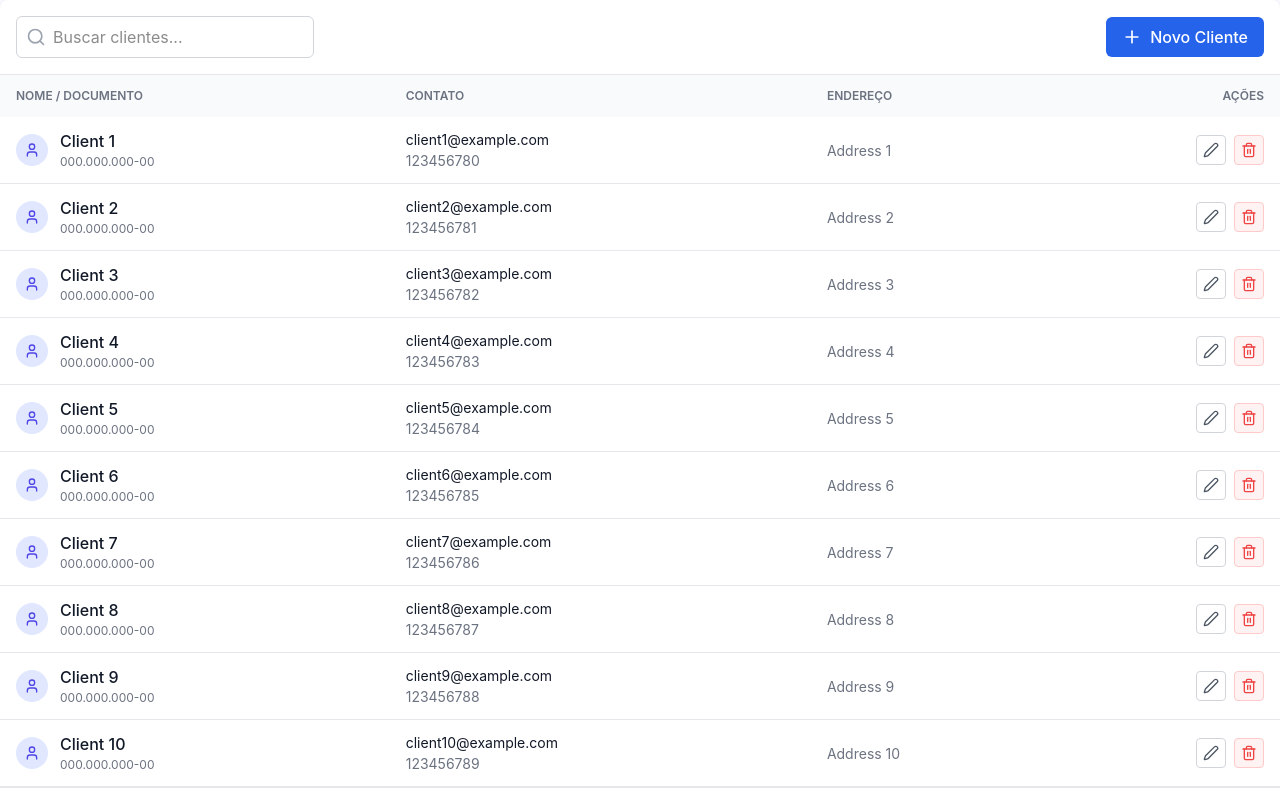
it: ClientList › should filter clients by search term
In the field with placeholder "Buscar clientes...": (165, 37) [16,16,314,58], type "Client 11"
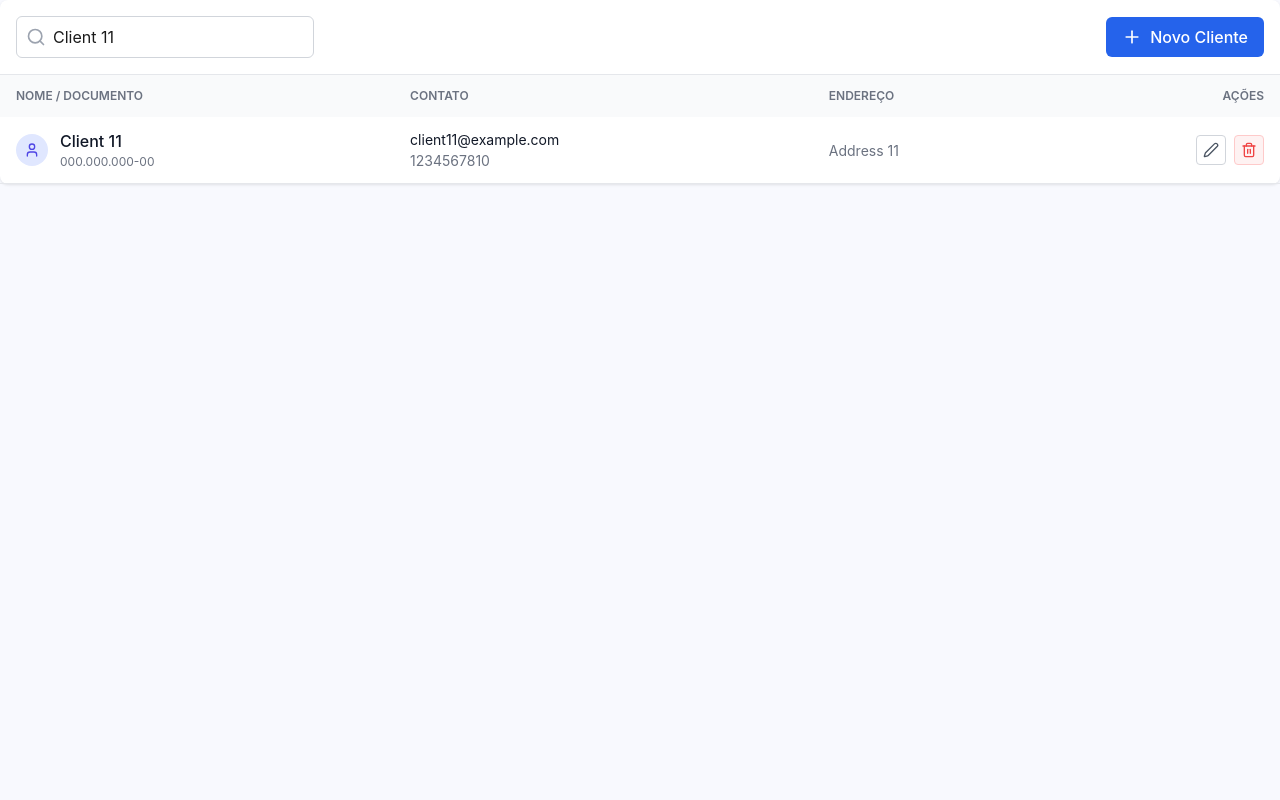
Expected: the text "Client 11" is shown, [60,131,122,151]
